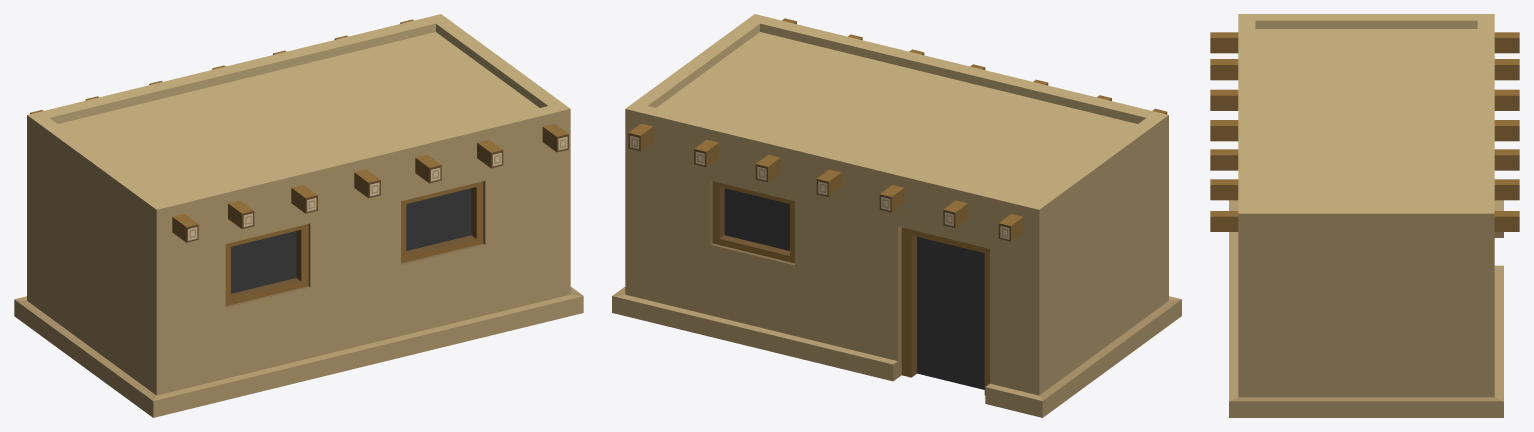
Rendered from SM_Bld_Mud_Hut_01.fbx.
The picture shows the model from 3 angles, left to right: view 1: azimuth 30°, elevation 25°; view 2: azimuth 150°, elevation 25°; view 3: azimuth 270°, elevation 25°; orthographic projection.
Visible parts, largest first — view 1: SM_Bld_Mud_Hut_01; view 2: SM_Bld_Mud_Hut_01; view 3: SM_Bld_Mud_Hut_01.
Part boxes in pixels (x1,y1,x2,y2): SM_Bld_Mud_Hut_01: (14, 14, 583, 417); SM_Bld_Mud_Hut_01: (612, 14, 1181, 417); SM_Bld_Mud_Hut_01: (1210, 14, 1519, 417).
Bounding box in the file's own units: 10.2 × 4.59 × 6.42.
